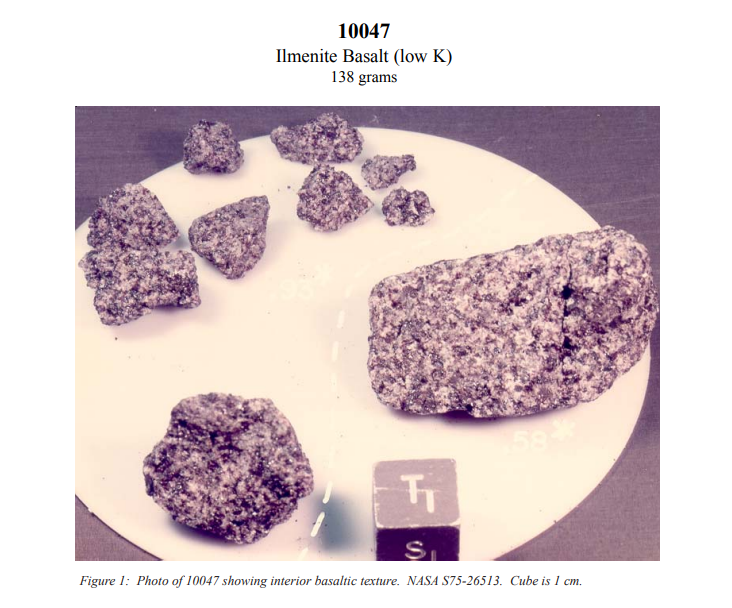Basalt: (356, 228, 664, 424), (364, 263, 657, 403), (99, 371, 310, 551)
